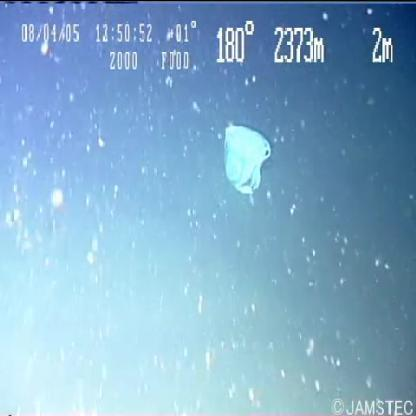Rác: (209, 110, 293, 220)
